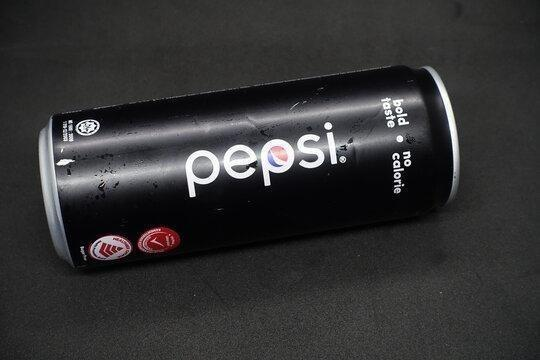tin can: (35, 60, 462, 272)
